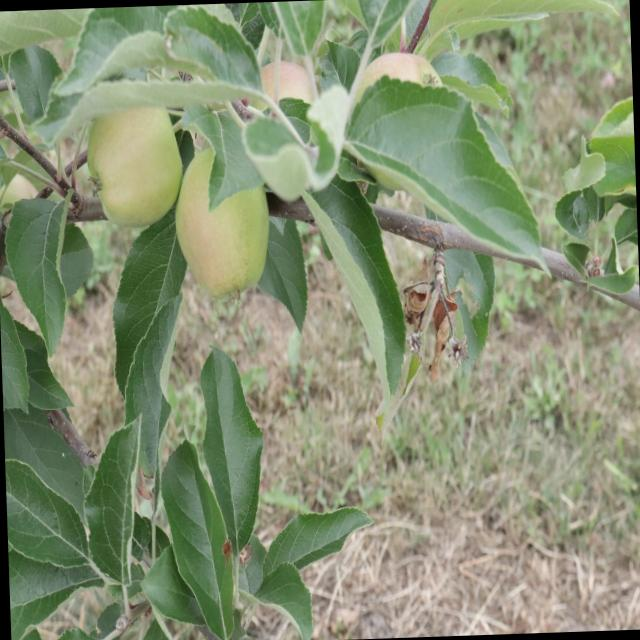-FireBlight-: (400, 259, 476, 383)
